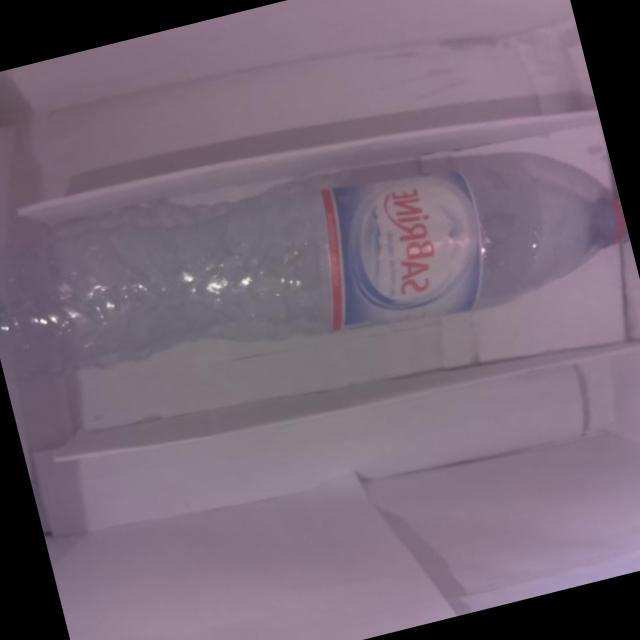good: (0, 78, 639, 436)
